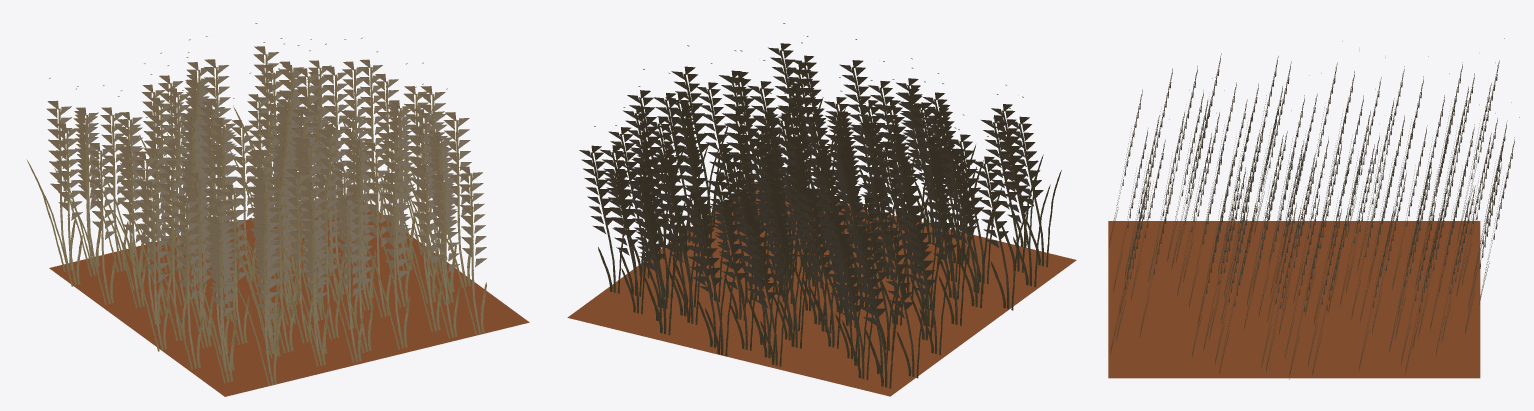
File: CultivosPRIME.fbx
The picture shows the model from 3 angles, left to right: view 1: azimuth 30°, elevation 25°; view 2: azimuth 150°, elevation 25°; view 3: azimuth 270°, elevation 25°; orthographic projection. The views are drawn at different scales.
Parts seen in each view (by area): view 1: Plane.004, Plane.063, Plane.050, Plane.027, Plane.045, Plane.087, Plane.055, Plane.046, Plane.079, Plane.096, Plane.008, Plane.015 (+79 smaller); view 2: Plane.004, Plane.025, Plane.050, Plane.100, Plane.009, Plane.082, Plane.012, Plane.036, Plane.027, Plane.090, Plane.099, Plane.046 (+88 smaller); view 3: Plane.004, Plane.022, Plane.038, Plane.075, Plane.100, Plane.088.
Boxes of the visible parts, x1,y1,x2,y2 form: Plane.004: (49, 194, 529, 396); Plane.063: (361, 152, 410, 349); Plane.050: (154, 172, 203, 369); Plane.027: (121, 159, 169, 351); Plane.045: (439, 144, 486, 334); Plane.087: (188, 195, 235, 383); Plane.055: (317, 176, 364, 363); Plane.046: (36, 101, 82, 286); Plane.079: (413, 153, 459, 338); Plane.096: (344, 119, 392, 317); Plane.008: (282, 182, 327, 366); Plane.015: (70, 121, 116, 304); Plane.004: (567, 181, 1076, 396); Plane.025: (938, 127, 996, 308); Plane.050: (993, 108, 1050, 287); Plane.100: (627, 156, 684, 335); Plane.009: (849, 212, 905, 388); Plane.082: (919, 147, 976, 325); Plane.012: (685, 183, 740, 356); Plane.036: (759, 172, 815, 348); Plane.027: (971, 136, 1026, 310); Plane.090: (795, 169, 853, 348); Plane.099: (655, 150, 711, 324); Plane.046: (878, 211, 931, 378); Plane.004: (1108, 221, 1480, 378); Plane.022: (1289, 184, 1330, 379); Plane.038: (1219, 179, 1261, 374); Plane.075: (1203, 157, 1245, 351); Plane.100: (1465, 163, 1501, 335); Plane.088: (1167, 90, 1203, 262).
Bounding box in the file's own units: 123 × 57.81 × 111.
2 materials, 1 textured.
